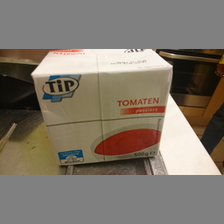tomato_sauce: (29, 49, 173, 167)
